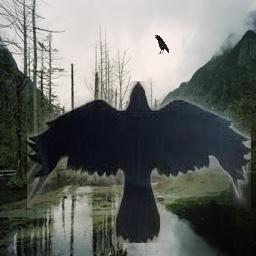Crow: (27, 81, 251, 243), (155, 34, 170, 54)
